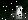person: (13, 7, 22, 20)
